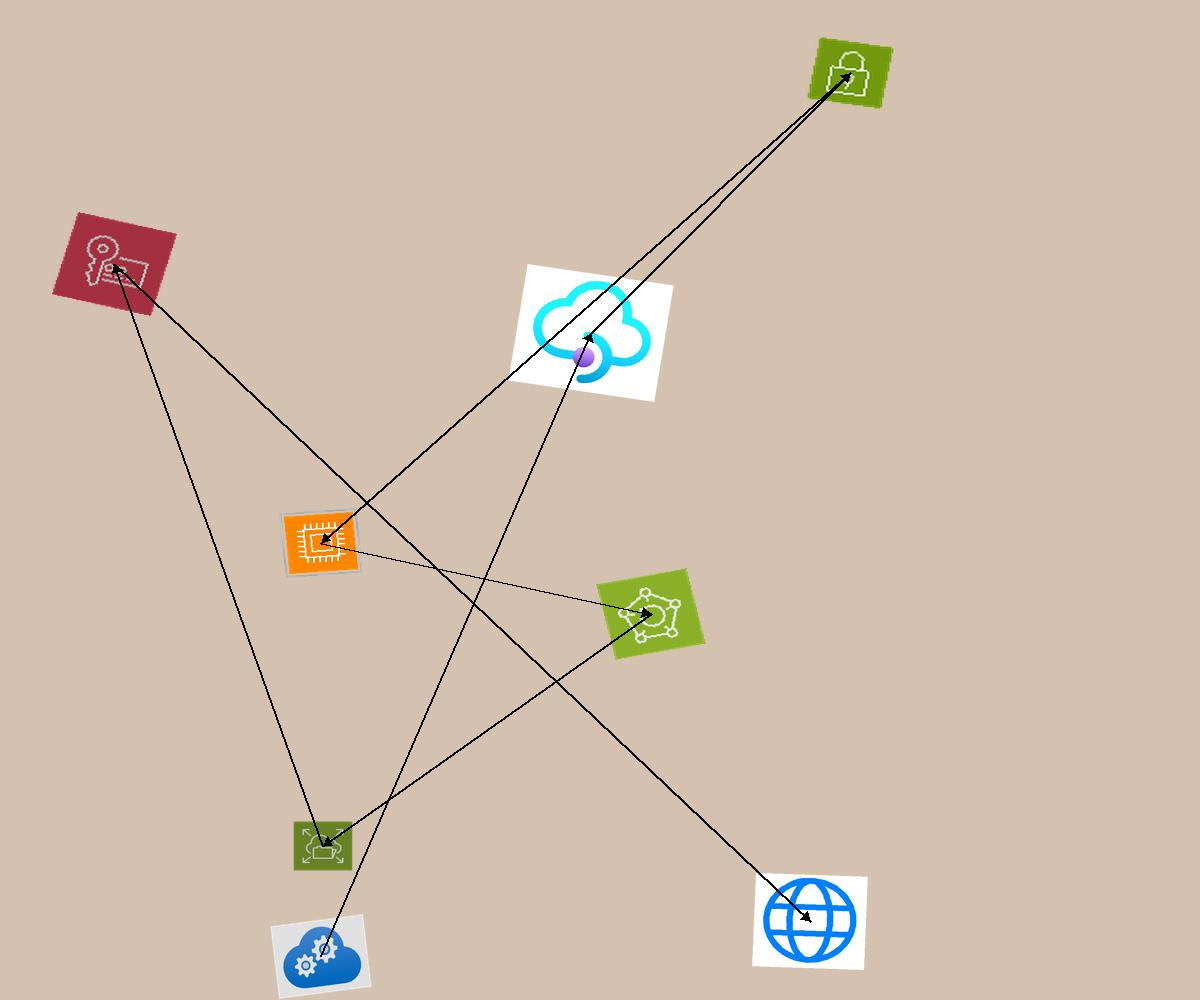AWS-Backup: (596, 568, 706, 660)
AWS-Category_Compute: (279, 508, 363, 578)
AWS-EFS: (293, 821, 353, 871)
AWS-Key-Management-Service: (52, 212, 177, 316)
AWS-Public-subnet: (806, 36, 895, 110)
Azure_api_gateway: (508, 264, 674, 402)
Azure_cloud_services: (270, 914, 372, 999)
Azure_http: (752, 873, 868, 970)
